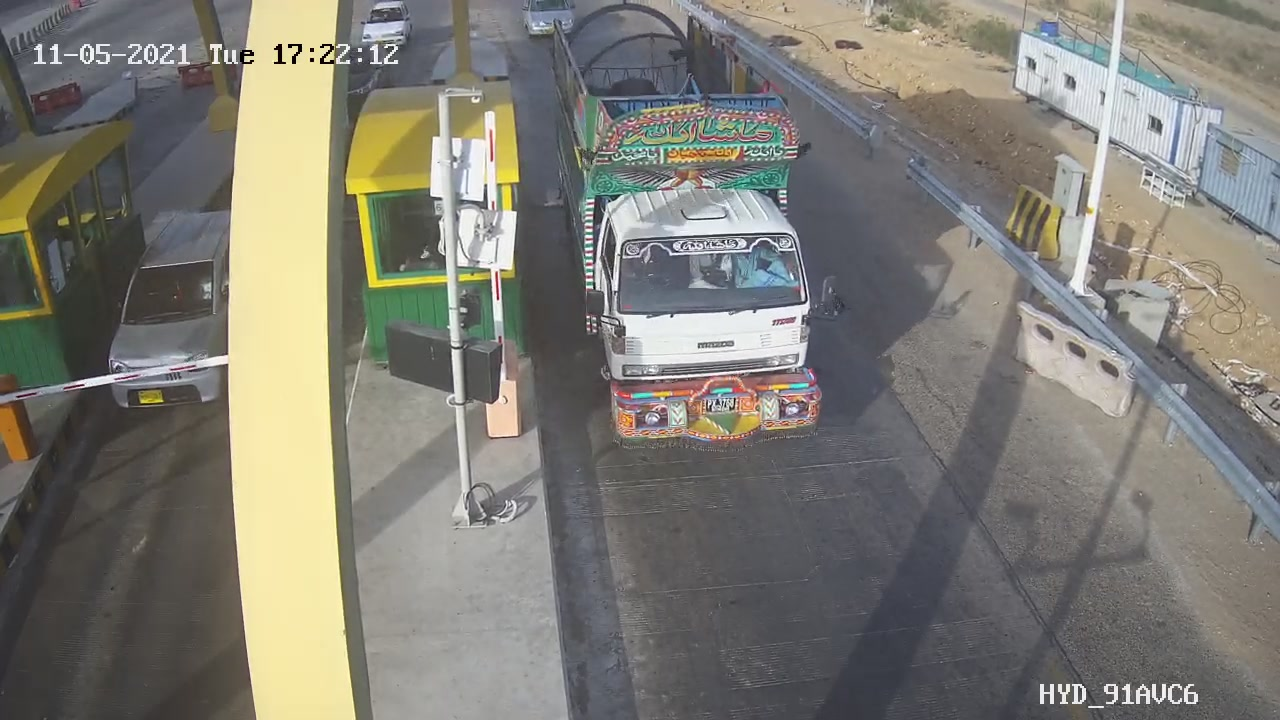F5: (526, 1, 864, 464)
